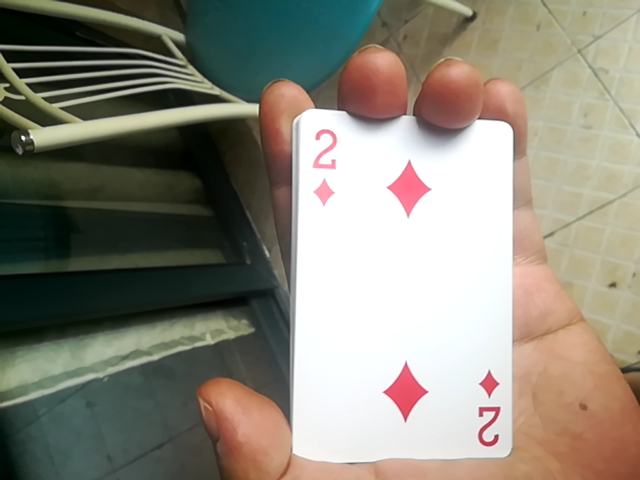fk 2: (292, 105, 520, 472)
